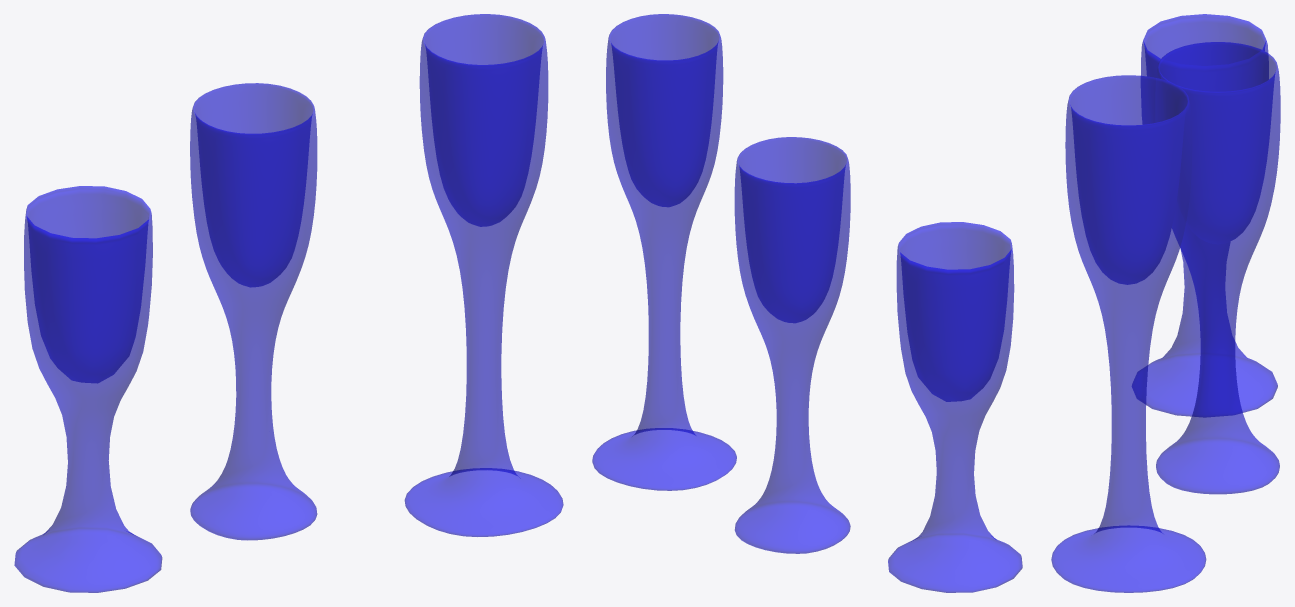
Rendered from glassCup.fbx.
3 renders of one model, left to right at view 1: azimuth 30°, elevation 25°; view 2: azimuth 150°, elevation 25°; view 3: azimuth 270°, elevation 25°, orthographic. The views are drawn at different scales.
Parts seen in each view (by area): view 1: Plane.002, Plane.003, Plane.004; view 2: Plane.002, Plane.003, Plane.004; view 3: Plane.002, Plane.003, Plane.004.
Part boxes in pixels (x1,y1,x2,y2): Plane.002: (404, 14, 563, 536); Plane.003: (190, 83, 317, 540); Plane.004: (14, 186, 162, 592); Plane.002: (592, 14, 736, 490); Plane.003: (734, 137, 850, 553); Plane.004: (888, 222, 1022, 592); Plane.002: (1051, 75, 1206, 592); Plane.003: (1155, 42, 1280, 494); Plane.004: (1132, 14, 1277, 417).
Size of the model in its own units: 30.82 by 28.23 by 12.63.
